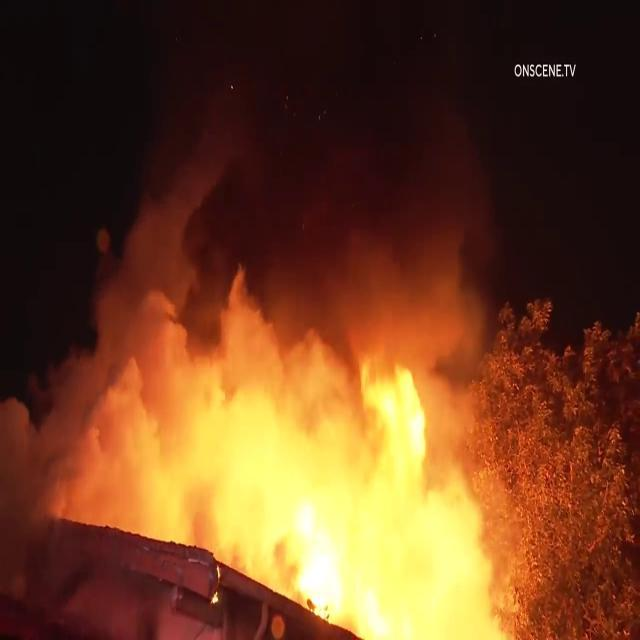Fire: (242, 456, 458, 640)
Smoke: (204, 68, 526, 450), (39, 394, 172, 530)
